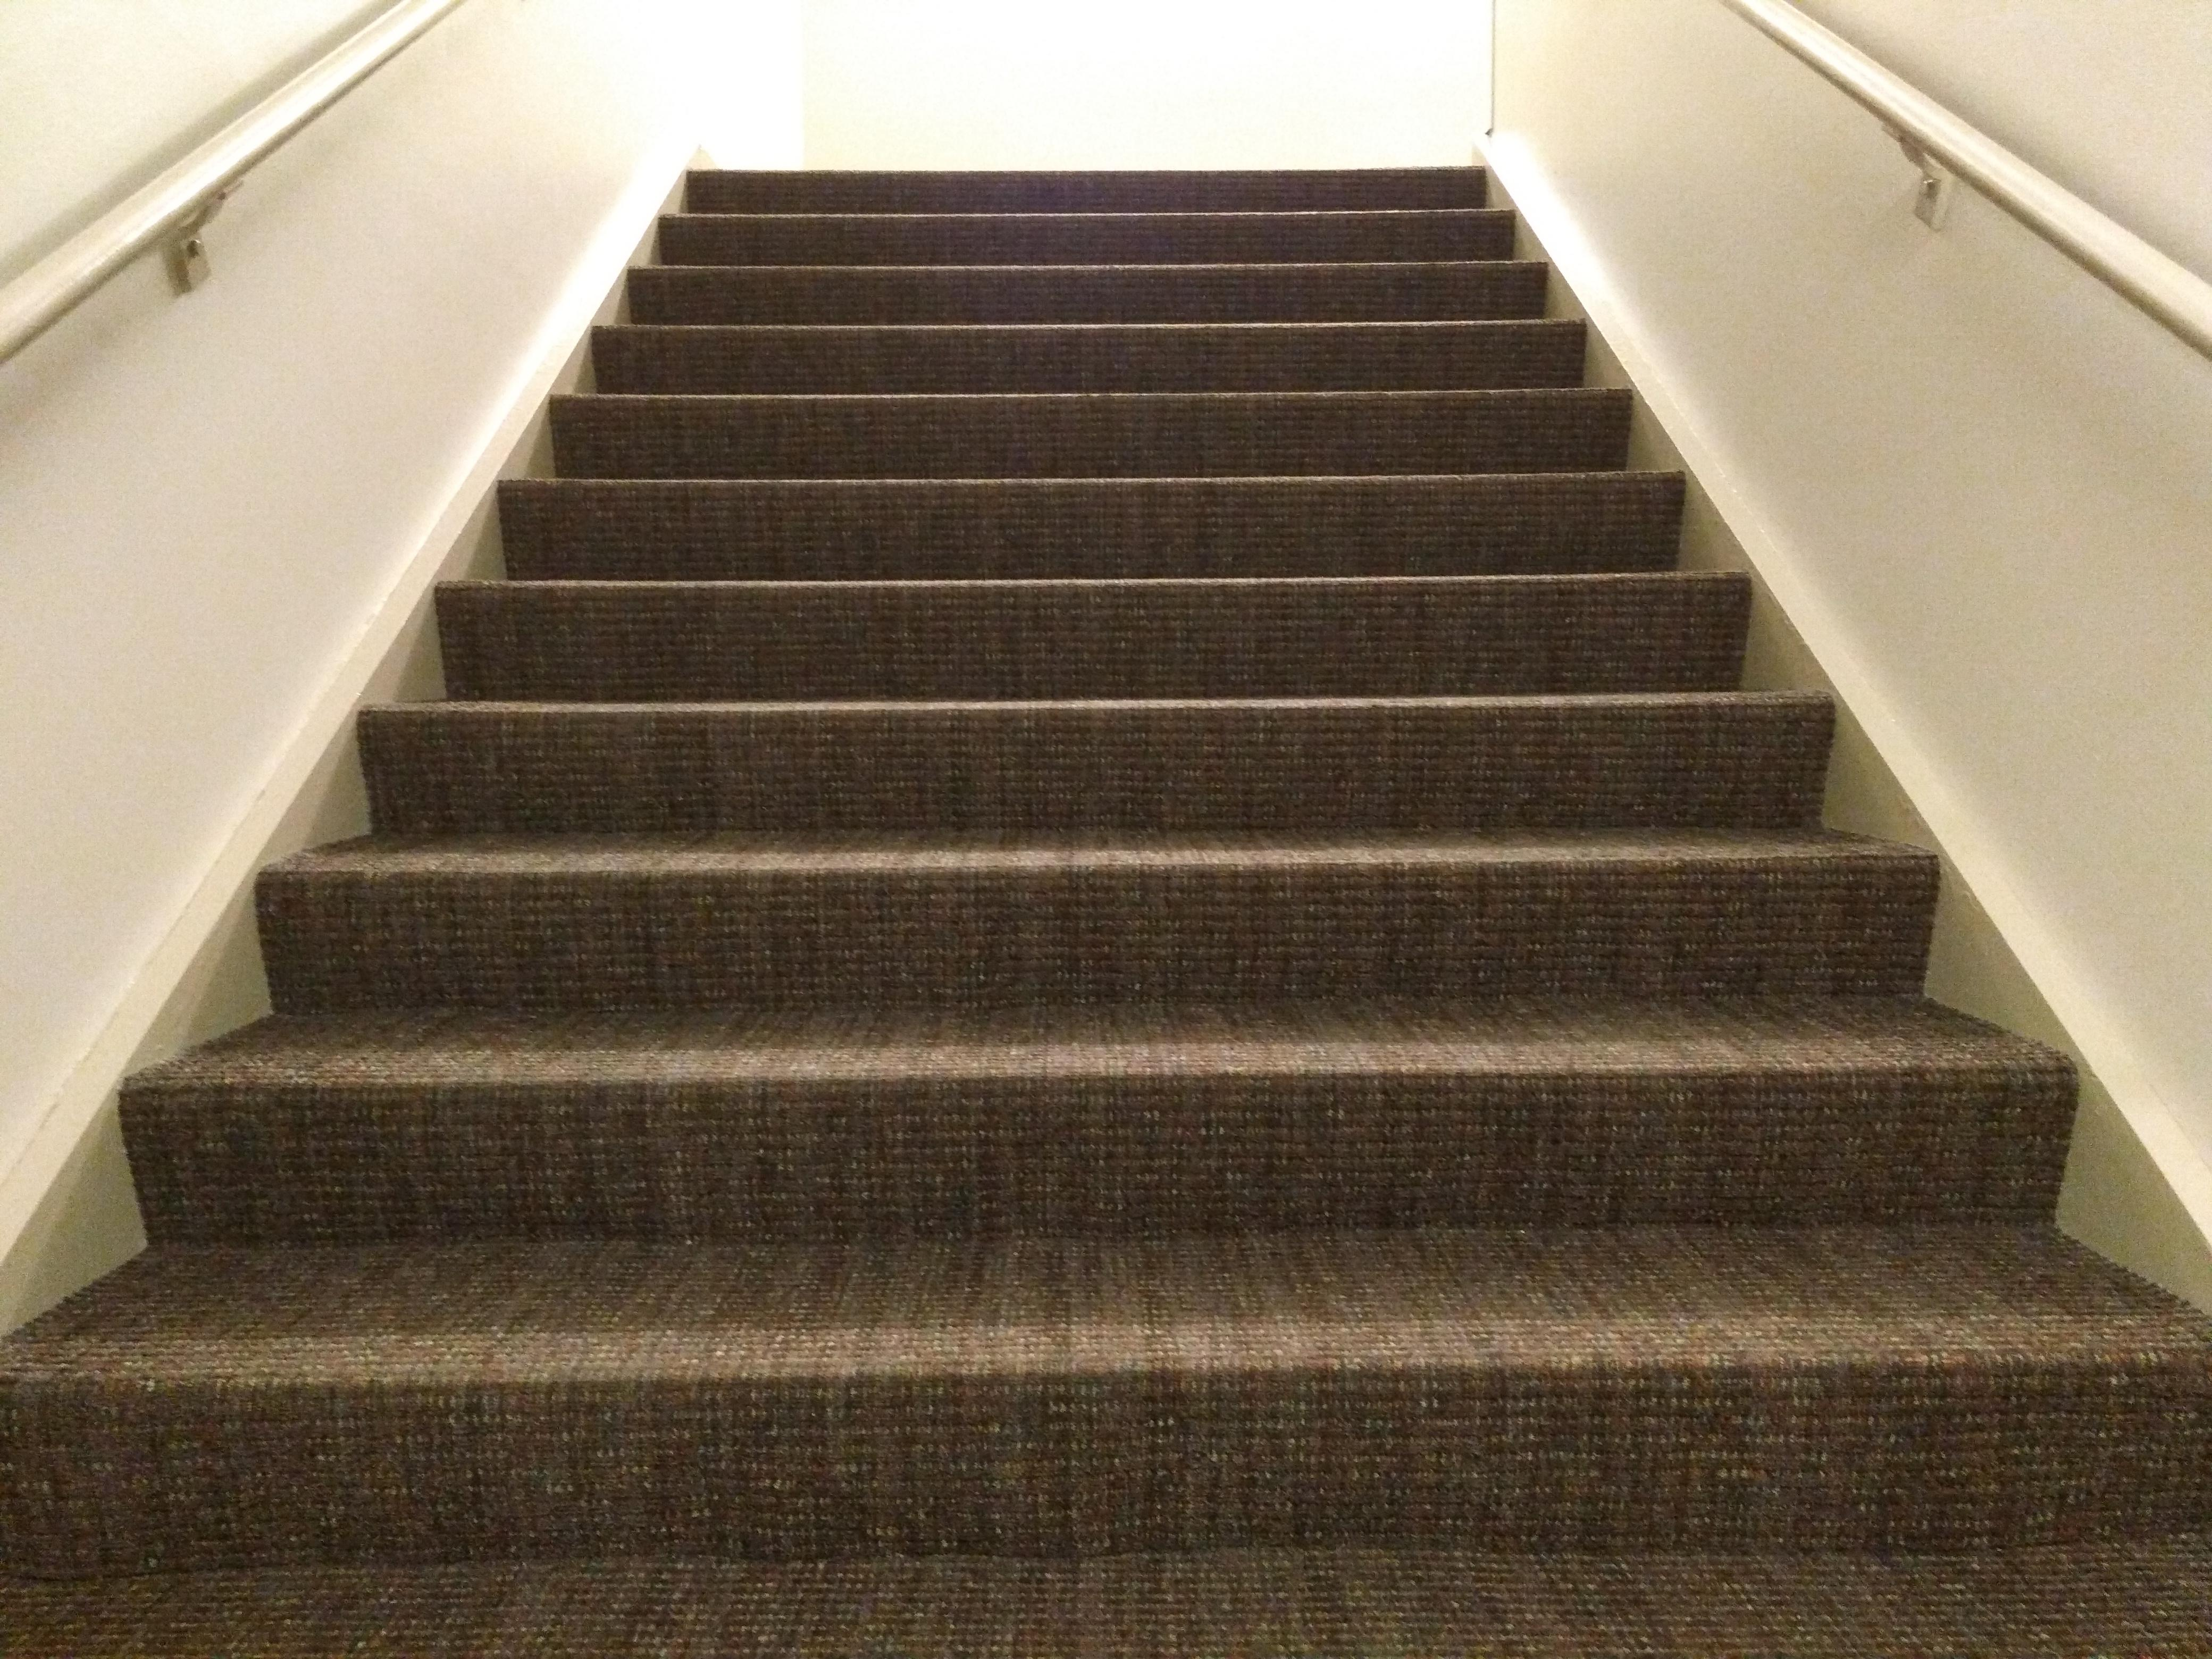stairs_up: (0, 159, 2212, 1659)
